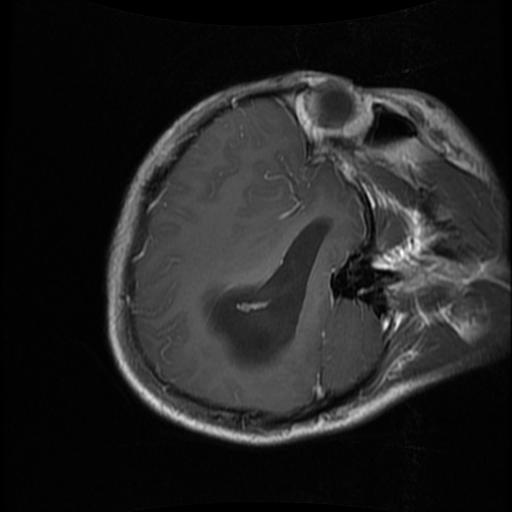glioma: (202, 219, 332, 371)
